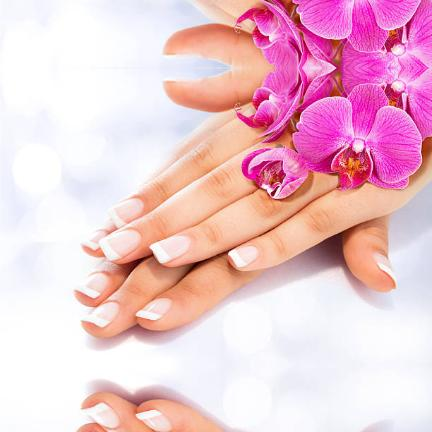Nail: (99, 229, 142, 260), (149, 233, 191, 263), (109, 197, 144, 227), (82, 402, 119, 427), (82, 302, 119, 326), (74, 272, 109, 297), (136, 297, 172, 319), (136, 409, 172, 431), (374, 253, 397, 286), (227, 246, 258, 268), (81, 229, 107, 249), (90, 431, 97, 432)
